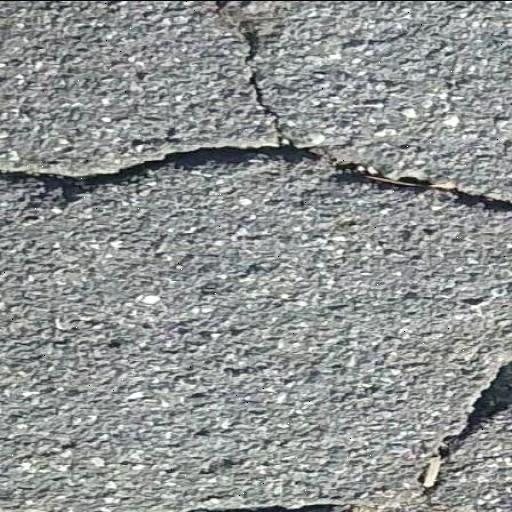spalling: (0, 6, 506, 219), (415, 354, 512, 503)
